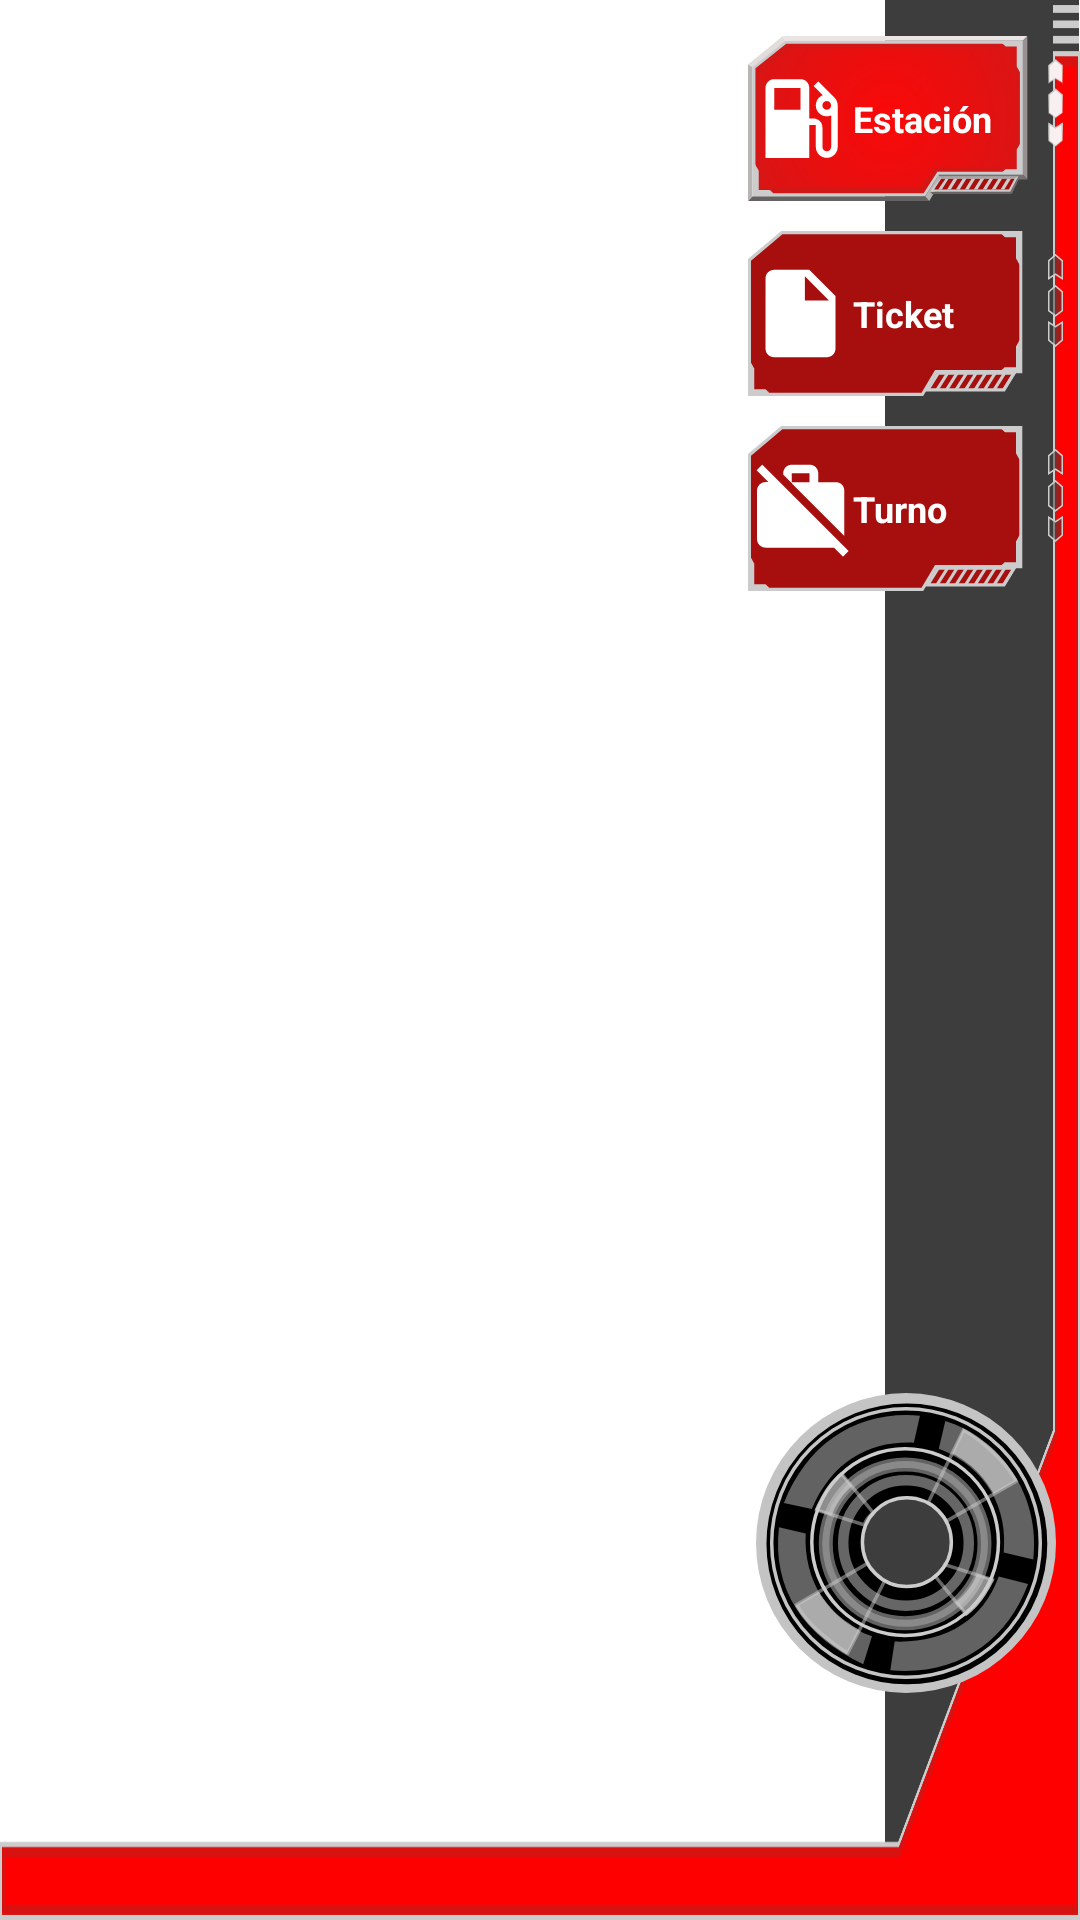

Where to tap for icons on this 1080×1920 app screen, as (x,y):
work off: (802,510)
